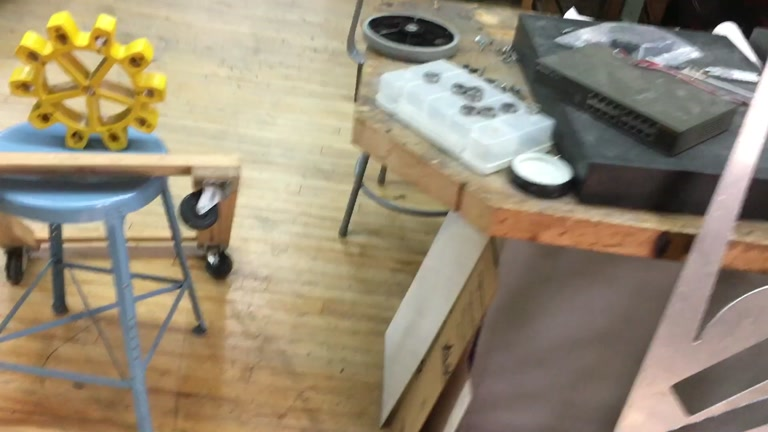gear: (9, 12, 169, 151)
